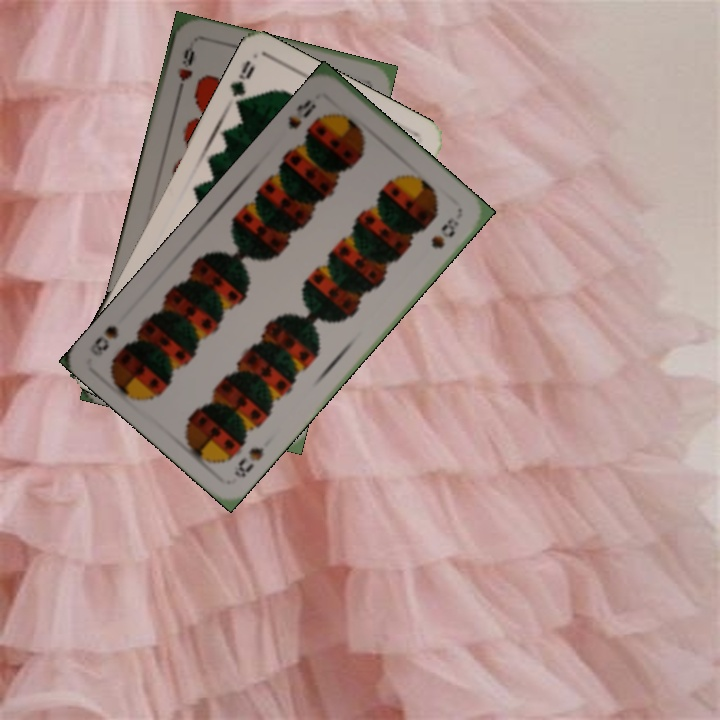G9: (226, 56, 258, 114)
H9: (173, 40, 197, 99)
S8: (229, 443, 267, 481), (283, 95, 319, 132)
